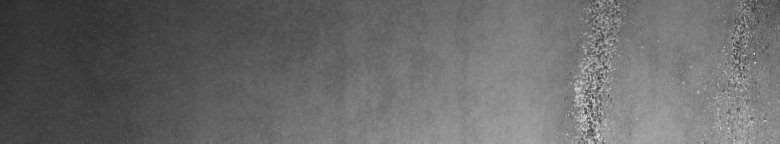hc: (565, 4, 631, 136)
